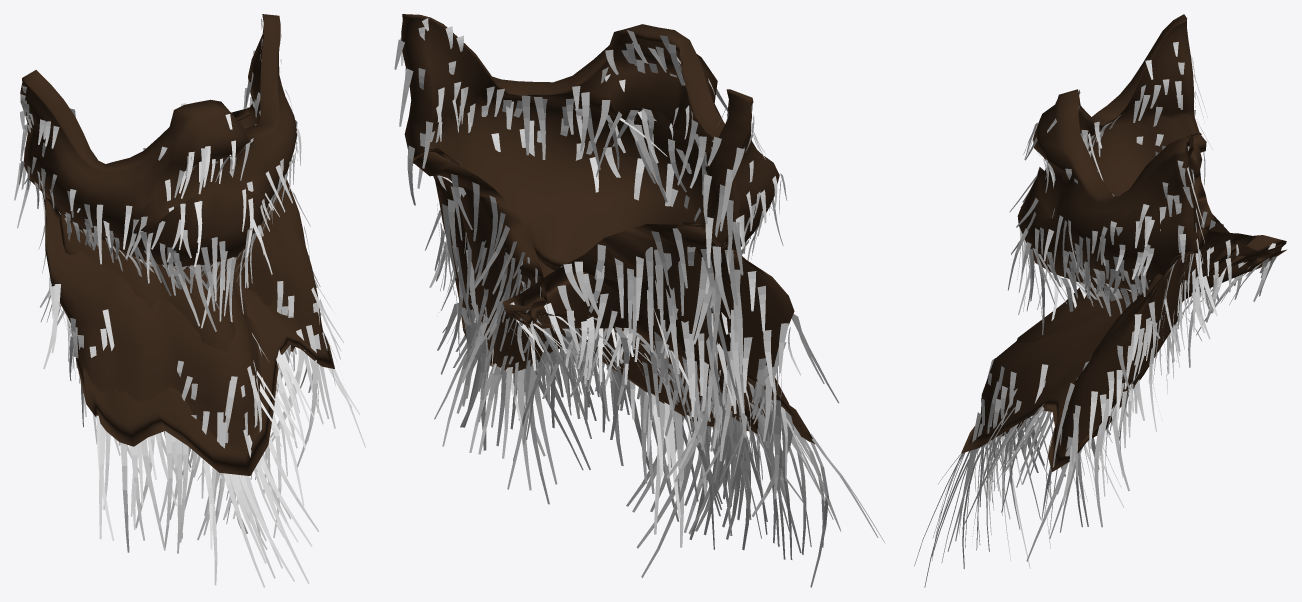
Rendered from beard-runekeeper-full.glb.
3 renders of one model, left to right at view 1: azimuth 30°, elevation 25°; view 2: azimuth 150°, elevation 25°; view 3: azimuth 270°, elevation 25°, orthographic. The views are drawn at different scales.
Parts seen in each view (by area): view 1: beard-runekeeper-full_1, beard__strands; view 2: beard-runekeeper-full_1, beard__strands; view 3: beard-runekeeper-full_1, beard__strands.
Boxes of the visible parts, <box> form: beard-runekeeper-full_1: <box>20,14,334,475</box>; beard__strands: <box>14,18,365,587</box>; beard-runekeeper-full_1: <box>401,14,814,443</box>; beard__strands: <box>394,18,885,587</box>; beard-runekeeper-full_1: <box>961,14,1286,471</box>; beard__strands: <box>914,42,1276,587</box>.
Size of the model in its own units: 0.1817 by 0.2683 by 0.1848.
